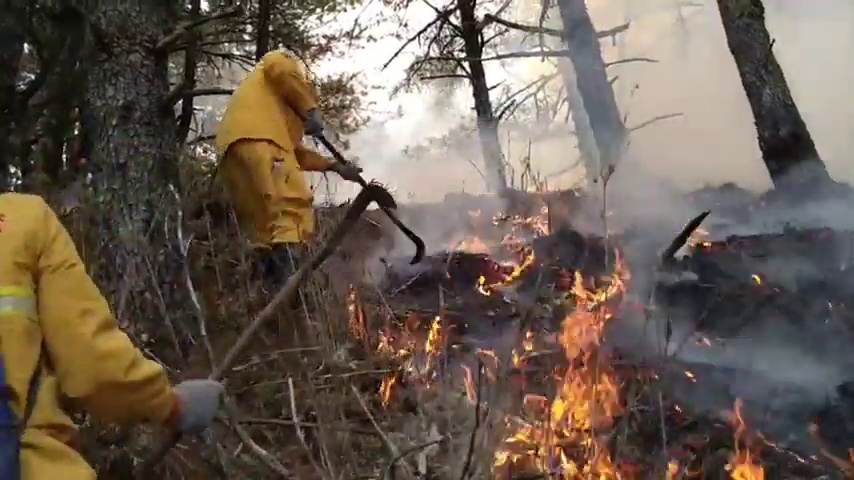fire: (497, 370, 623, 480), (561, 263, 630, 366), (426, 316, 445, 356), (732, 457, 764, 480), (512, 263, 522, 275)
